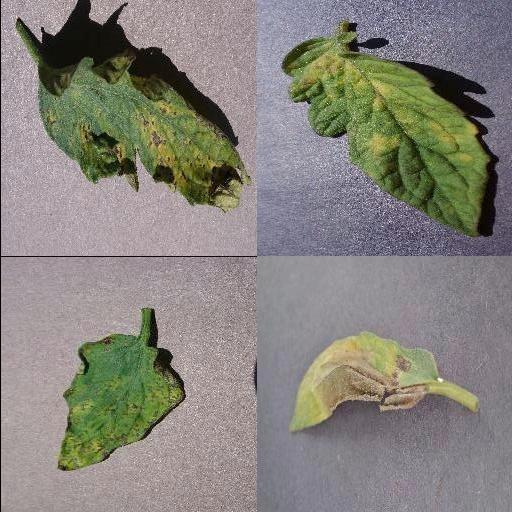Late Blight: (284, 328, 442, 436)
Leaf Mold: (281, 39, 491, 240)
Septoria: (37, 57, 251, 214), (54, 333, 183, 471)
